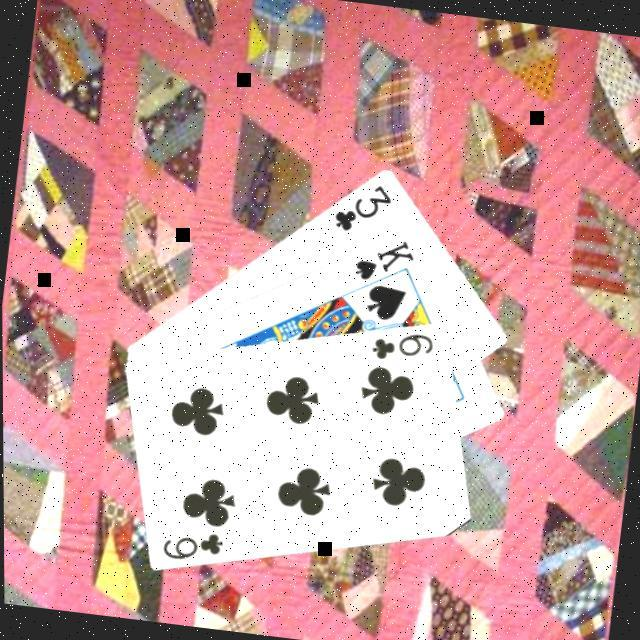3C: (327, 174, 395, 238)
6C: (365, 322, 436, 368), (156, 521, 226, 567)
KS: (348, 229, 418, 288)
